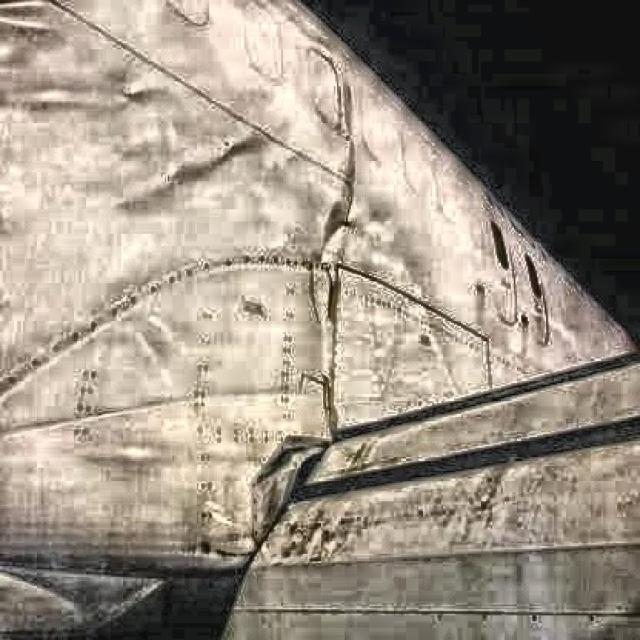dent: (111, 85, 276, 196), (313, 191, 436, 324), (73, 420, 173, 469), (3, 66, 102, 108), (134, 316, 194, 385), (5, 1, 73, 57)
